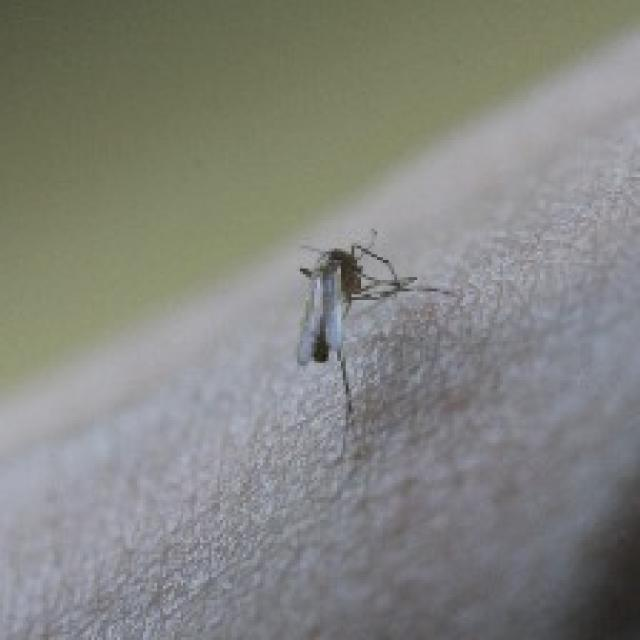culex: (292, 226, 454, 448)
